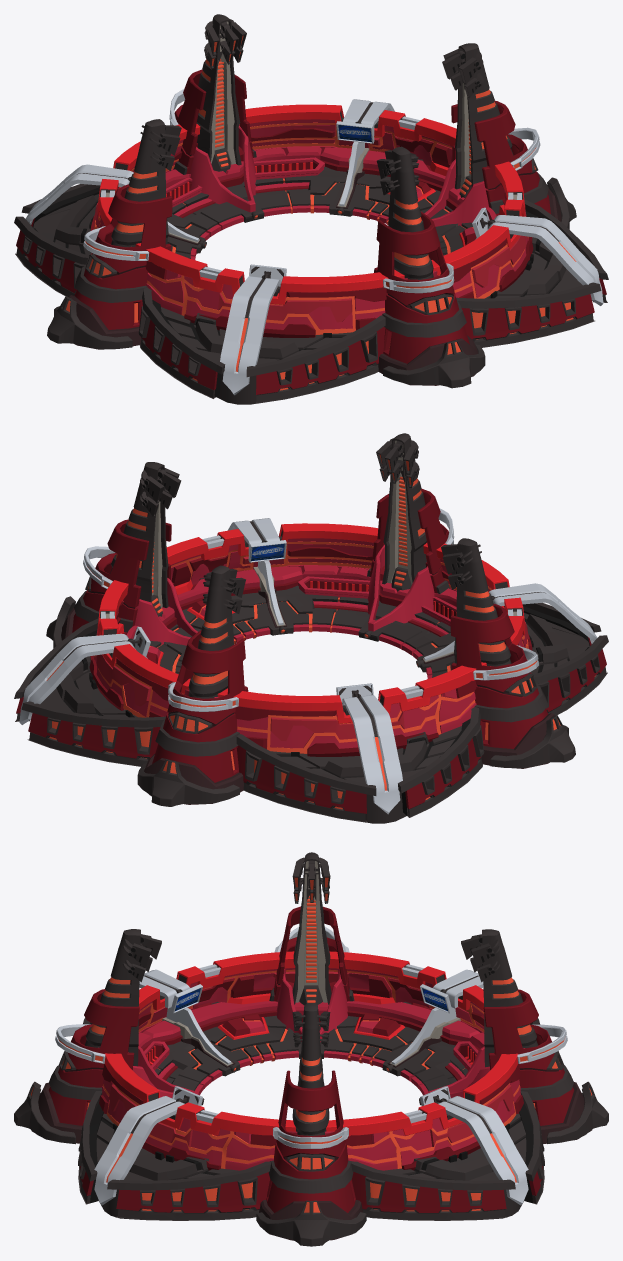
The model's file is arena_speedstorm.fbx.
3 renders of one model, top to bottom at view 1: azimuth 30°, elevation 25°; view 2: azimuth 150°, elevation 25°; view 3: azimuth 270°, elevation 25°, orthographic.
Visible parts, largest first — view 1: Arena_SpeedStorm; view 2: Arena_SpeedStorm; view 3: Arena_SpeedStorm.
Boxes of the visible parts, box(x1,y1,x2,y2) form: Arena_SpeedStorm: box(14, 14, 608, 404); Arena_SpeedStorm: box(14, 433, 608, 823); Arena_SpeedStorm: box(14, 852, 608, 1246).
Size of the model in its own units: 49.3 by 18.4 by 49.3.
